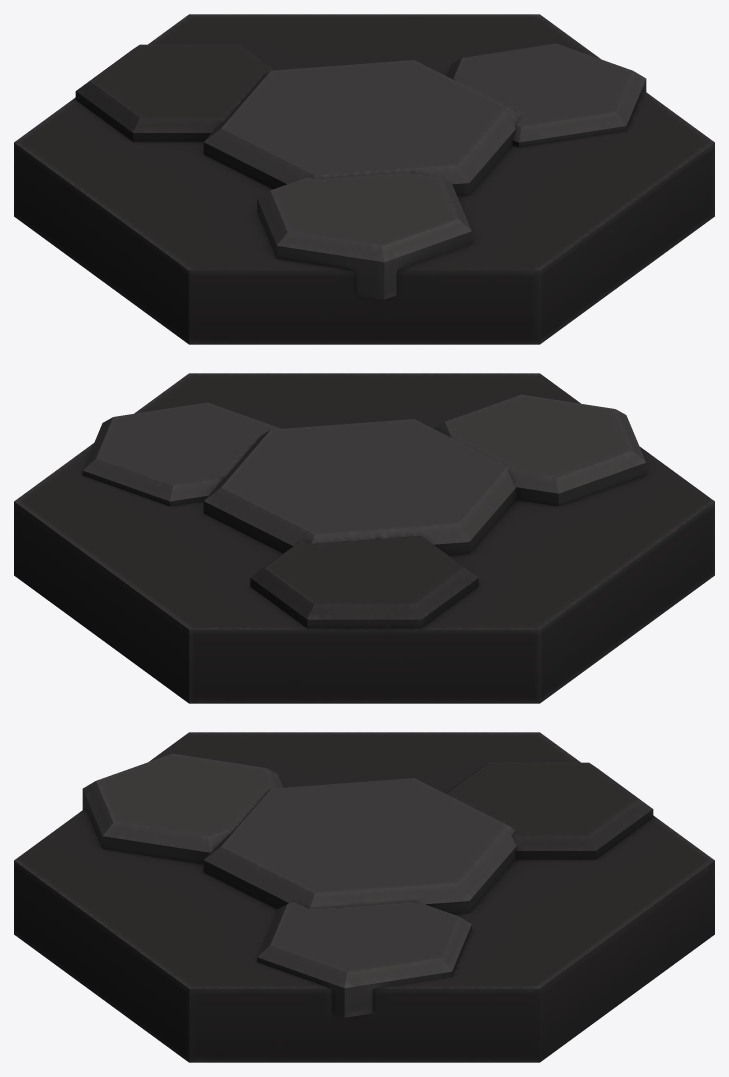
File: tile_hex_basalt.glb
3 views of the same model, one above another, from view 1: azimuth 30°, elevation 25°; view 2: azimuth 150°, elevation 25°; view 3: azimuth 270°, elevation 25° (orthographic).
Parts seen in each view (by area): view 1: tile_hex_basalt; view 2: tile_hex_basalt; view 3: tile_hex_basalt.
Part boxes in pixels (box(x1,y1,x2,y2)): tile_hex_basalt: box(14, 14, 714, 344); tile_hex_basalt: box(14, 373, 714, 703); tile_hex_basalt: box(14, 732, 714, 1062).
Bounding box in the file's own units: 1.13 × 0.2 × 1.29.
1 material, 1 textured.
